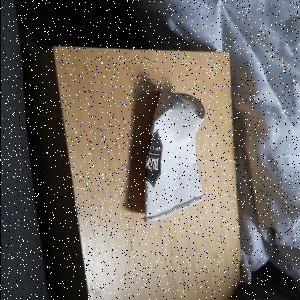Cup: (142, 89, 207, 225)
